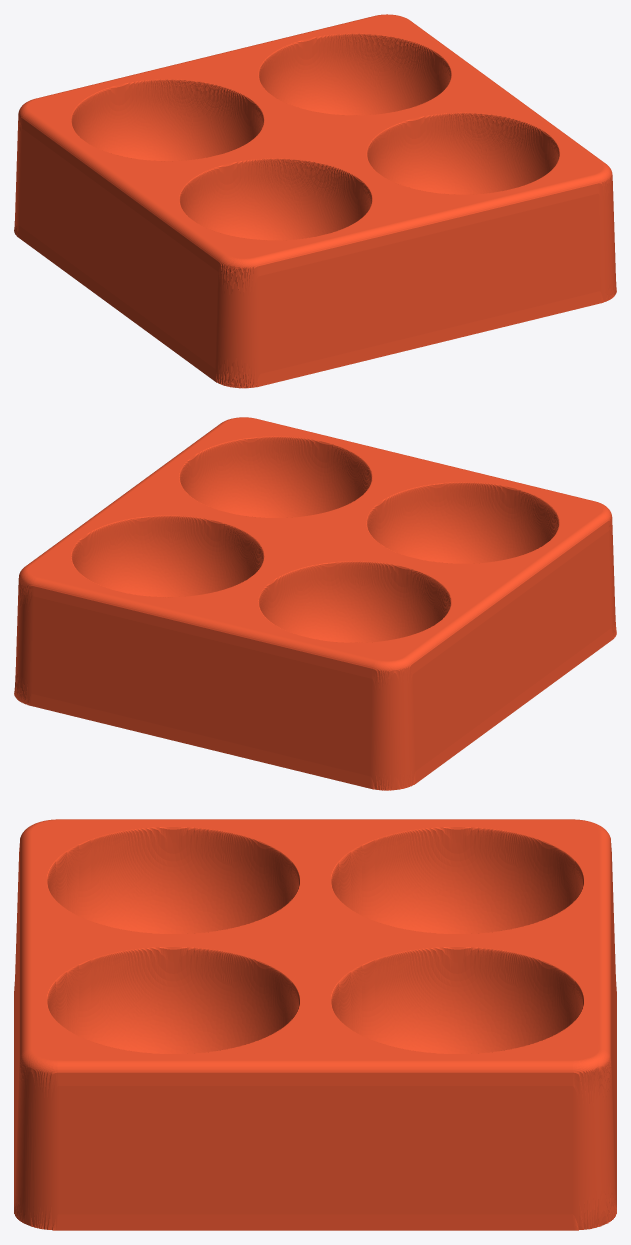
The model's file is mold.glb.
The picture shows the model from 3 angles, top to bottom: view 1: azimuth 30°, elevation 25°; view 2: azimuth 150°, elevation 25°; view 3: azimuth 270°, elevation 25°; orthographic projection. The views are drawn at different scales.
Parts seen in each view (by area): view 1: geometry_0; view 2: geometry_0; view 3: geometry_0.
Part boxes in pixels (<box>): geometry_0: <box>14,14,616,388</box>; geometry_0: <box>14,417,616,790</box>; geometry_0: <box>14,819,616,1230</box>.
Bounding box in the file's own units: 0.1225 × 0.0365 × 0.1225.
